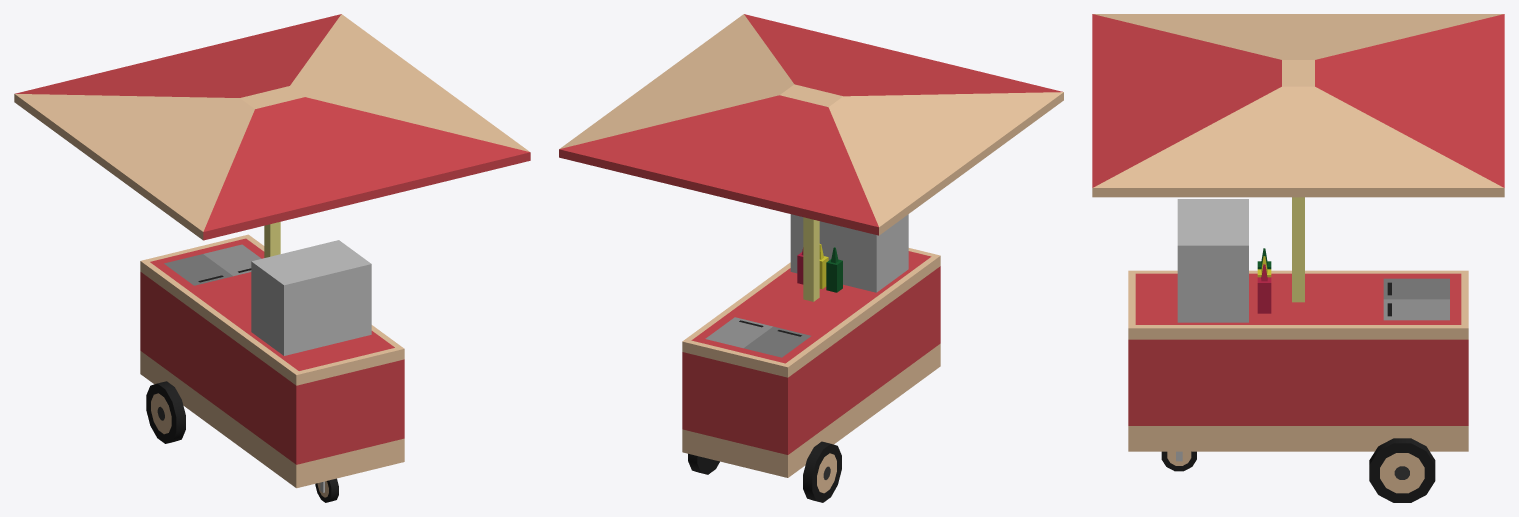
Rendered from HotDogCart.fbx.
3 renders of one model, left to right at view 1: azimuth 30°, elevation 25°; view 2: azimuth 150°, elevation 25°; view 3: azimuth 270°, elevation 25°, orthographic. The views are drawn at different scales.
Visible parts, largest first — view 1: HotDogCart; view 2: HotDogCart; view 3: HotDogCart.
Part boxes in pixels (x1,y1,x2,y2): HotDogCart: [14, 14, 530, 502]; HotDogCart: [559, 14, 1063, 502]; HotDogCart: [1092, 14, 1504, 502].
Size of the model in its own units: 242 by 257 by 242.
